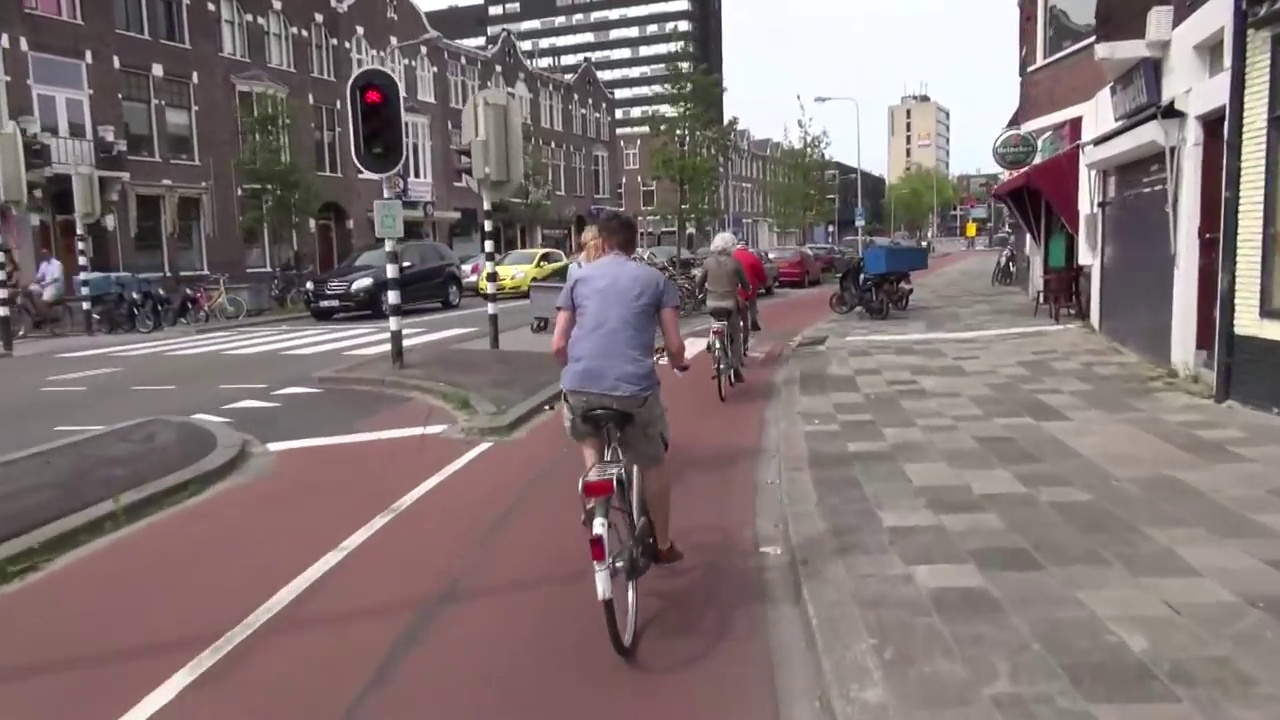cyclist_back: (557, 209, 696, 661), (699, 223, 755, 410)
